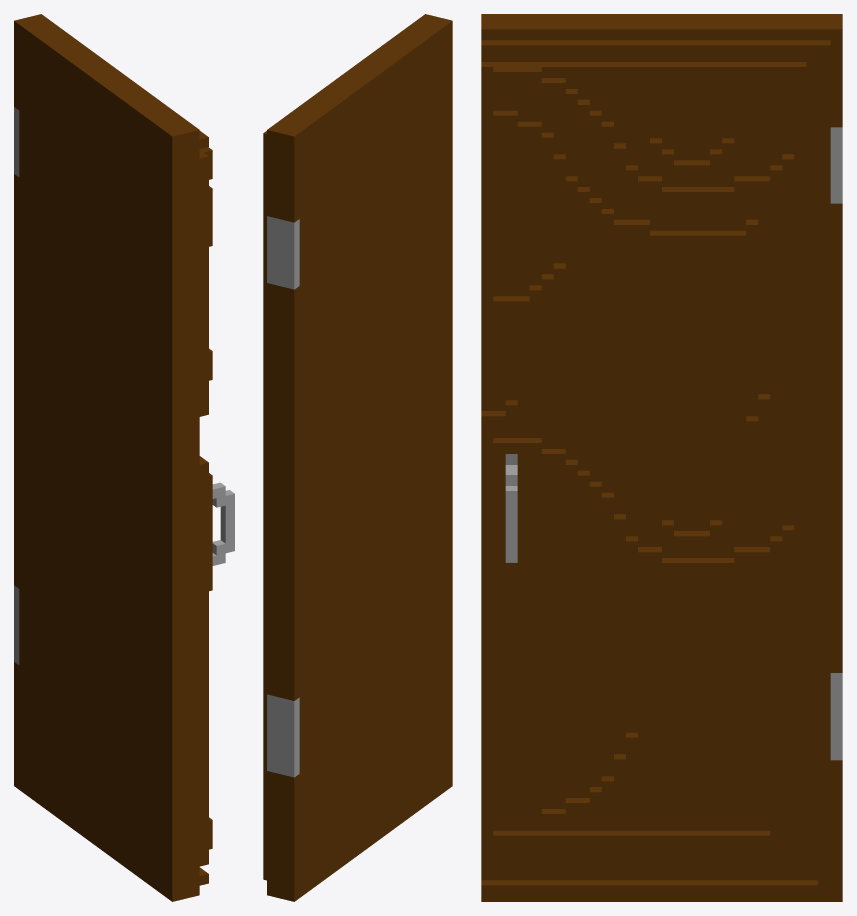
Rendered from armoire_porte_droite.obj.
3 views of the same model, side by side, from view 1: azimuth 30°, elevation 25°; view 2: azimuth 150°, elevation 25°; view 3: azimuth 270°, elevation 25° (orthographic). The views are drawn at different scales.
Size of the model in its own units: 8 by 80 by 30.
1 material, 1 textured.
